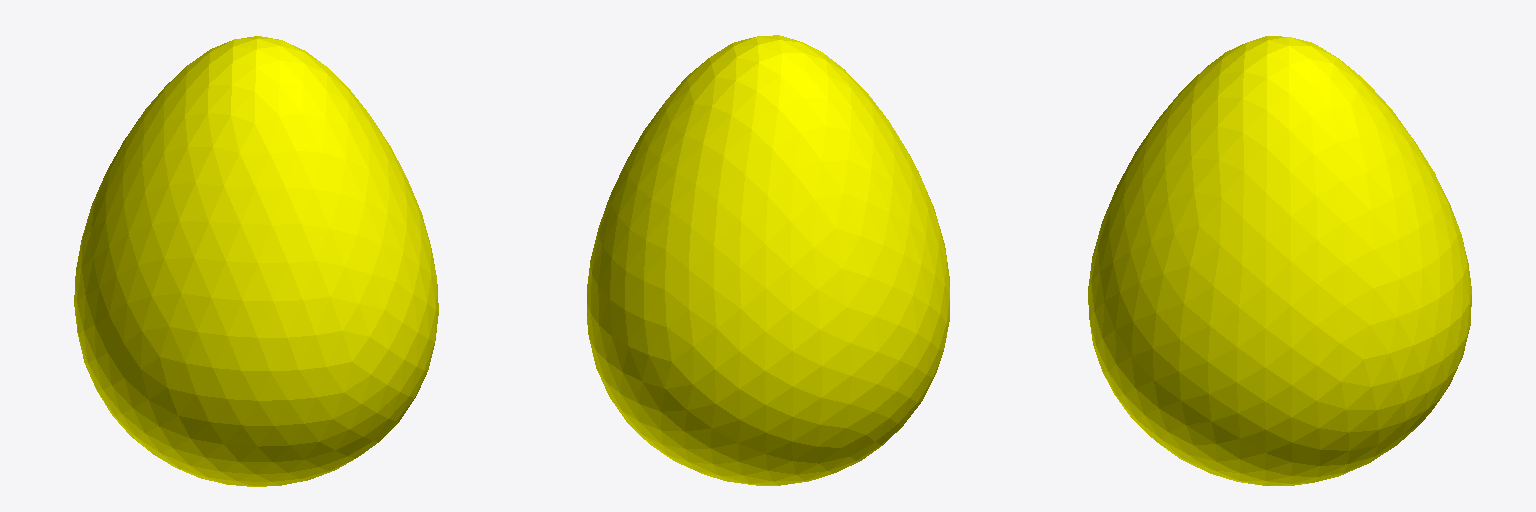
Rendered from balloon.obj.
3 views of the same model, side by side, from view 1: azimuth 30°, elevation 25°; view 2: azimuth 150°, elevation 25°; view 3: azimuth 270°, elevation 25° (orthographic).
Parts seen in each view (by area): view 1: selected_model.osgt_GeoSphere01_Geometry_0; view 2: selected_model.osgt_GeoSphere01_Geometry_0; view 3: selected_model.osgt_GeoSphere01_Geometry_0.
Boxes of the visible parts, box(x1,y1,x2,y2) form: selected_model.osgt_GeoSphere01_Geometry_0: box(74, 36, 438, 486); selected_model.osgt_GeoSphere01_Geometry_0: box(587, 35, 949, 485); selected_model.osgt_GeoSphere01_Geometry_0: box(1088, 36, 1471, 485).
Bounding box in the file's own units: 98.45 × 129 × 105.